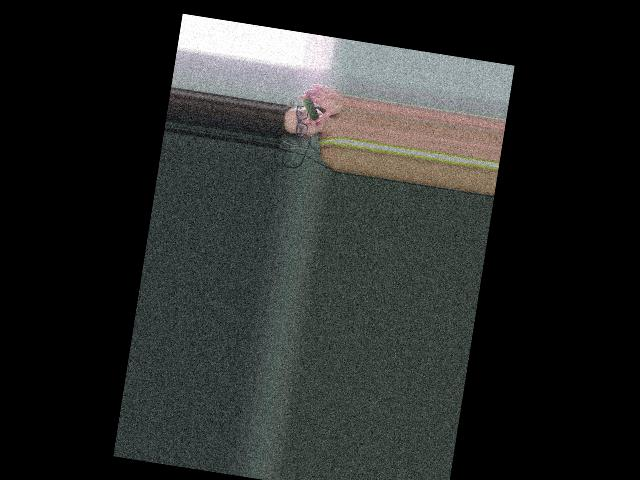cucumber: (299, 96, 321, 121)
